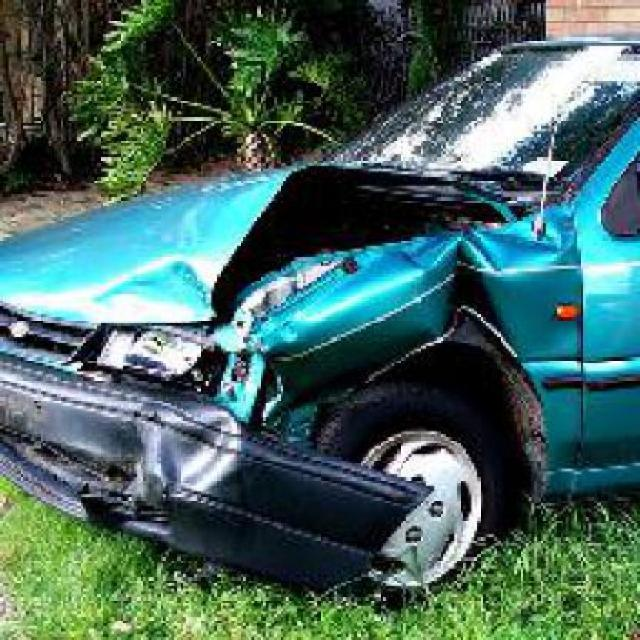damaged-front-bumper: (0, 362, 351, 564)
damaged-head-light: (79, 317, 230, 388)
damaged-hood: (0, 160, 489, 322)
